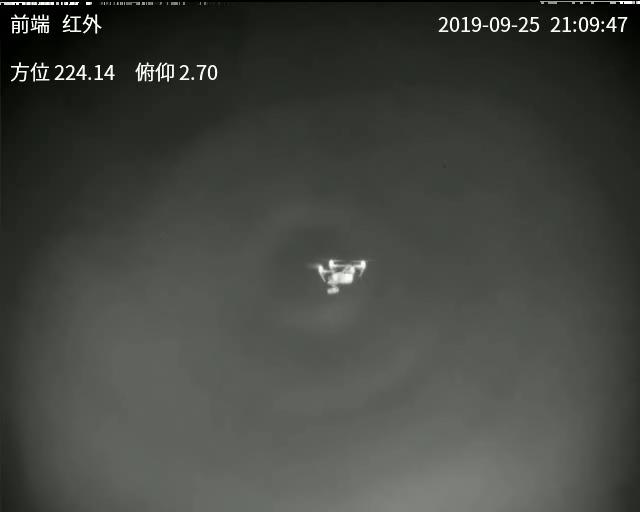uav: (313, 257, 368, 298)
